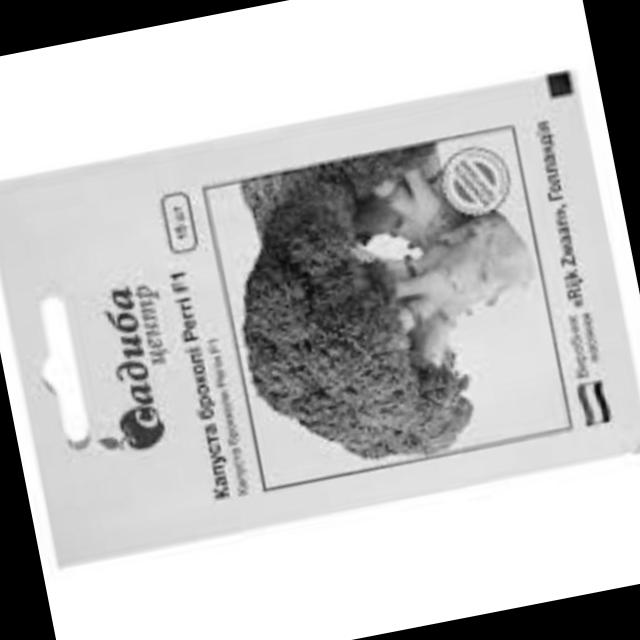bong cai xanh: (211, 112, 551, 486)
